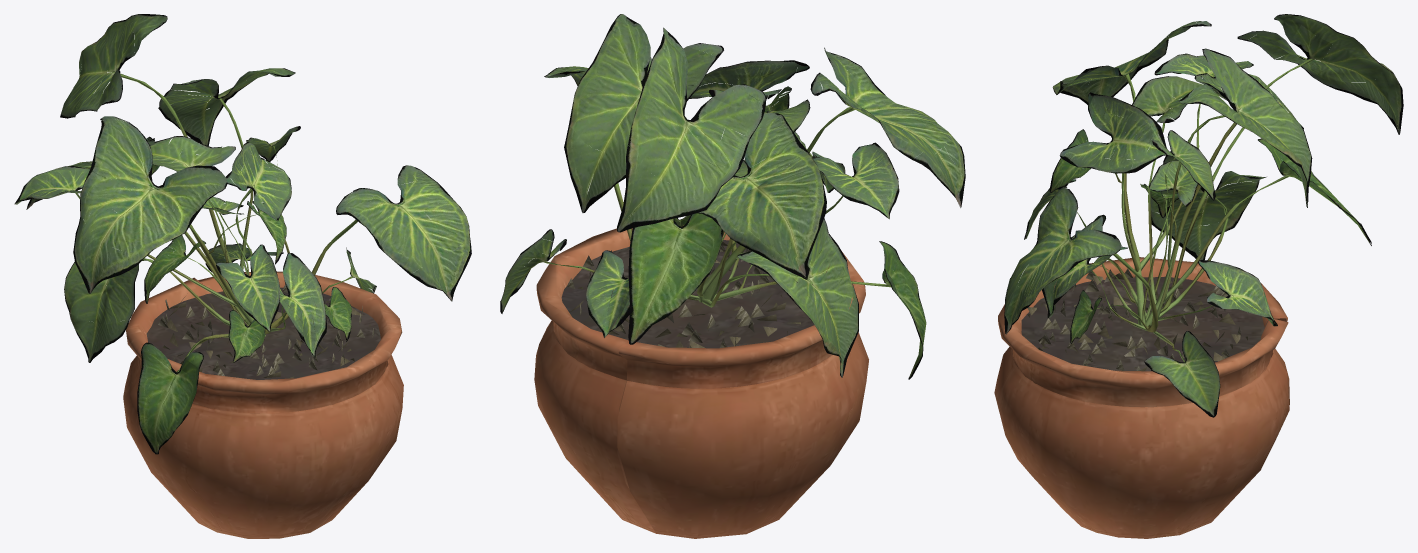
Rendered from plant-pot.glb.
3 views of the same model, side by side, from view 1: azimuth 30°, elevation 25°; view 2: azimuth 150°, elevation 25°; view 3: azimuth 270°, elevation 25° (orthographic). The views are drawn at different scales.
Parts seen in each view (by area): view 1: plant-pot; view 2: plant-pot; view 3: plant-pot.
Part boxes in pixels (box(x1,y1,x2,y2)): plant-pot: box(14, 14, 471, 538); plant-pot: box(500, 14, 965, 538); plant-pot: box(994, 14, 1403, 538).
Bounding box in the file's own units: 0.876 × 1.05 × 0.8226.
2 materials, 2 textured.
